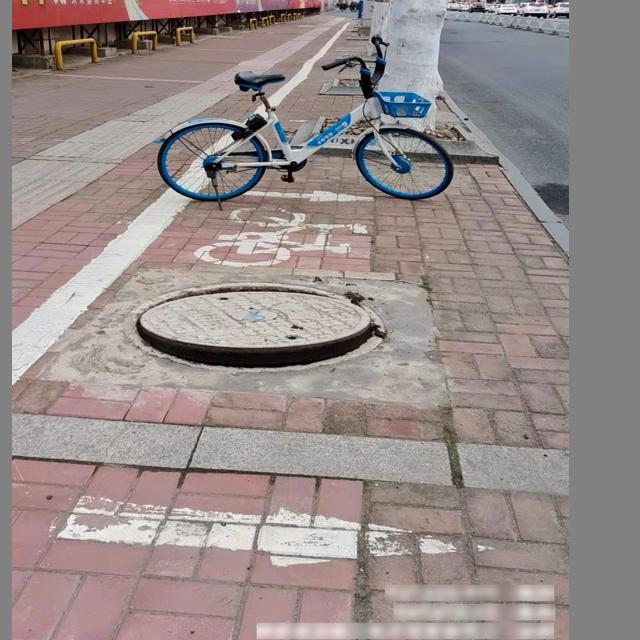uncovered: (125, 282, 385, 376)
